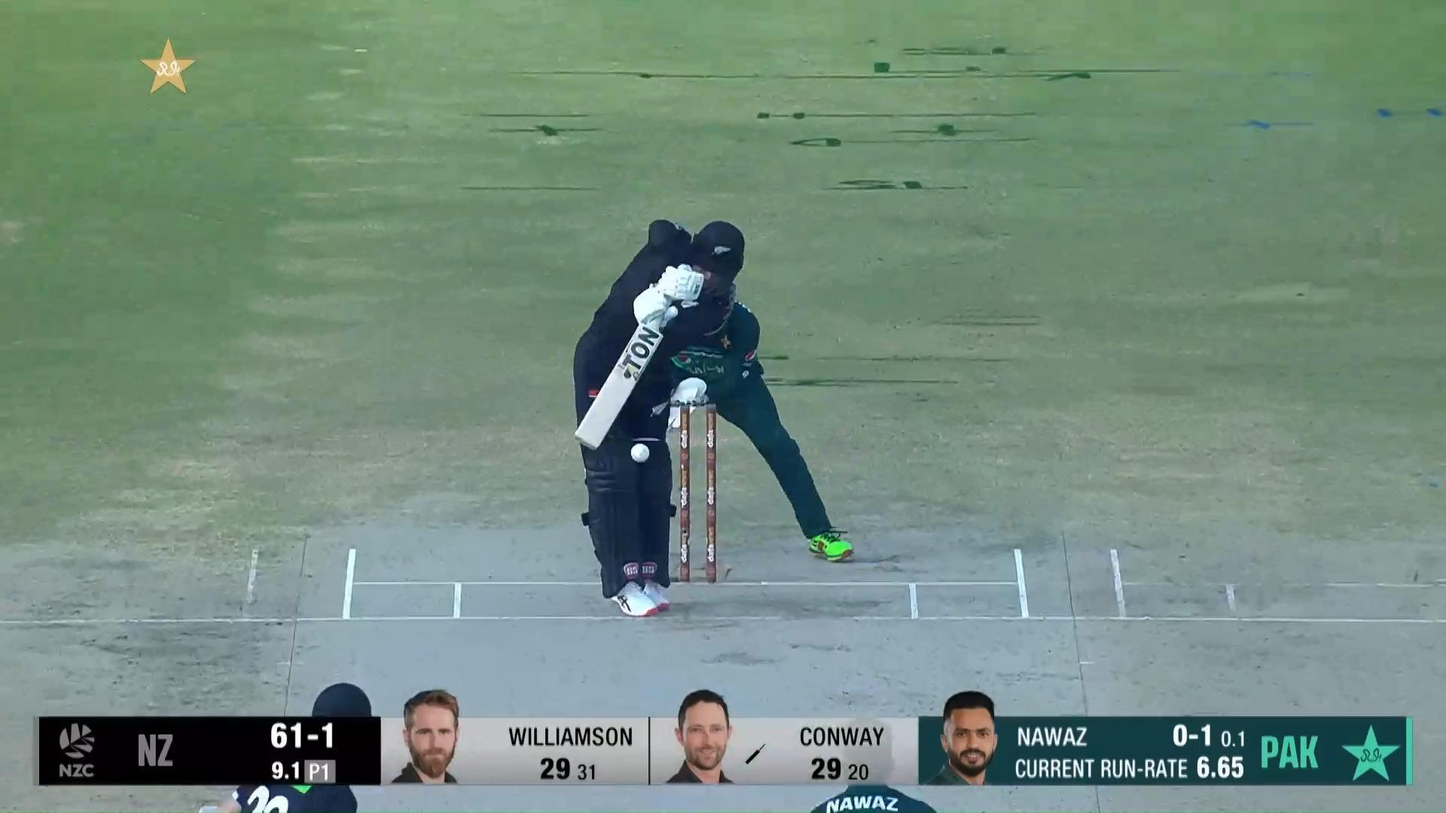BM 1: (572, 216, 746, 621)
BO: (810, 716, 938, 813)
